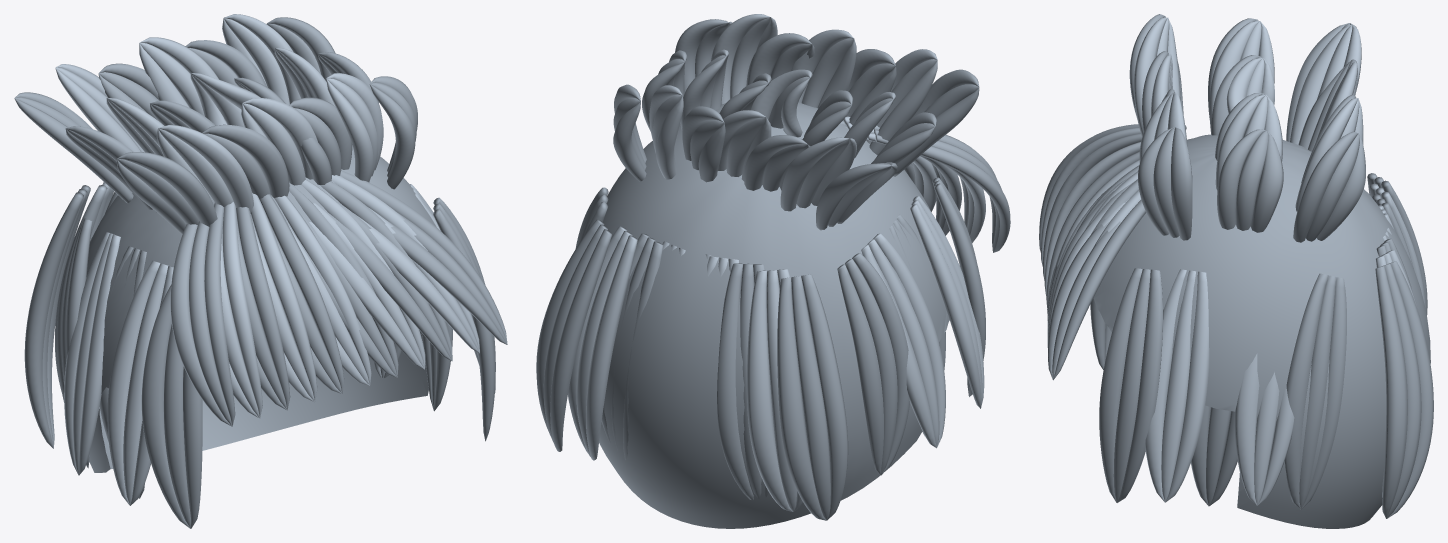
3 views of the same model, side by side, from view 1: azimuth 30°, elevation 25°; view 2: azimuth 150°, elevation 25°; view 3: azimuth 270°, elevation 25° (orthographic). The views are drawn at different scales.
Parts seen in each view (by area): view 1: CrownHair_male_ref20, BackHair_00_Strand0, SideHair_-1_0_Strand2, SideHair_-1_1_Strand2, FrontHair_Sweep_00_Strand2, SideHair_-1_1_Strand1, SideHair_-1_3_Strand0, FrontHair_Sweep_01_Strand0, FrontHair_Sweep_00_Strand0, SideHair_-1_0_Strand1, FrontHair_Sweep_03_Strand0, FrontHair_Sweep_04_Strand0 (+76 smaller); view 2: CrownHair_male_ref20, BackHair_00_Strand2, BackHair_01_Strand2, BackHair_00_Strand1, BackHair_00_Strand0, BackHair_02_Strand2, BackHair_07_Strand0, BackHair_08_Strand0, SideHair_-1_4_Strand2, SideHair_-1_4_Strand1, SideHair_-1_1_Strand2, SideHair_-1_4_Strand0 (+63 smaller); view 3: CrownHair_male_ref20, BackHair_08_Strand2, SideHair_1_0_Strand0, SideHair_1_1_Strand0, SideHair_1_0_Strand2, SideHair_1_4_Strand2, SideHair_1_1_Strand1, SideHair_1_0_Strand1, SideHair_1_4_Strand1, SideHair_1_4_Strand0, BackHair_08_Strand1, BackHair_08_Strand0 (+55 smaller).
Part boxes in pixels (x1=…): CrownHair_male_ref20: x1=86, y1=145, x2=436, y2=472; BackHair_00_Strand0: x1=24, y1=192, x2=83, y2=448; SideHair_-1_0_Strand2: x1=141, y1=285, x2=190, y2=528; SideHair_-1_1_Strand2: x1=107, y1=260, x2=160, y2=505; FrontHair_Sweep_00_Strand2: x1=170, y1=224, x2=231, y2=426; SideHair_-1_1_Strand1: x1=123, y1=263, x2=168, y2=505; SideHair_-1_3_Strand0: x1=79, y1=234, x2=120, y2=475; FrontHair_Sweep_01_Strand0: x1=222, y1=202, x2=262, y2=417; FrontHair_Sweep_00_Strand0: x1=204, y1=203, x2=235, y2=426; SideHair_-1_0_Strand1: x1=163, y1=324, x2=190, y2=528; FrontHair_Sweep_03_Strand0: x1=251, y1=193, x2=317, y2=401; FrontHair_Sweep_04_Strand0: x1=260, y1=194, x2=344, y2=393; CrownHair_male_ref20: x1=599, y1=102, x2=949, y2=528; BackHair_00_Strand2: x1=777, y1=277, x2=826, y2=520; BackHair_01_Strand2: x1=747, y1=270, x2=792, y2=511; BackHair_00_Strand1: x1=791, y1=276, x2=830, y2=520; BackHair_00_Strand0: x1=801, y1=274, x2=848, y2=520; BackHair_02_Strand2: x1=717, y1=263, x2=753, y2=500; BackHair_07_Strand0: x1=586, y1=235, x2=637, y2=460; BackHair_08_Strand0: x1=550, y1=229, x2=611, y2=451; SideHair_-1_4_Strand2: x1=837, y1=264, x2=883, y2=475; SideHair_-1_4_Strand1: x1=844, y1=259, x2=897, y2=475; SideHair_-1_1_Strand2: x1=910, y1=204, x2=981, y2=408; SideHair_-1_4_Strand0: x1=852, y1=253, x2=909, y2=474; CrownHair_male_ref20: x1=1093, y1=134, x2=1430, y2=528; BackHair_08_Strand2: x1=1375, y1=266, x2=1407, y2=518; SideHair_1_0_Strand0: x1=1117, y1=269, x2=1163, y2=502; SideHair_1_1_Strand0: x1=1165, y1=271, x2=1209, y2=502; SideHair_1_0_Strand2: x1=1099, y1=268, x2=1142, y2=502; SideHair_1_4_Strand2: x1=1285, y1=273, x2=1328, y2=509; SideHair_1_1_Strand1: x1=1161, y1=270, x2=1195, y2=502; SideHair_1_0_Strand1: x1=1113, y1=269, x2=1150, y2=502; SideHair_1_4_Strand1: x1=1299, y1=275, x2=1335, y2=509; SideHair_1_4_Strand0: x1=1301, y1=277, x2=1346, y2=509; BackHair_08_Strand1: x1=1381, y1=263, x2=1421, y2=518; BackHair_08_Strand0: x1=1387, y1=261, x2=1433, y2=518.
Size of the model in its own units: 0.7868 by 0.8772 by 0.7402.
